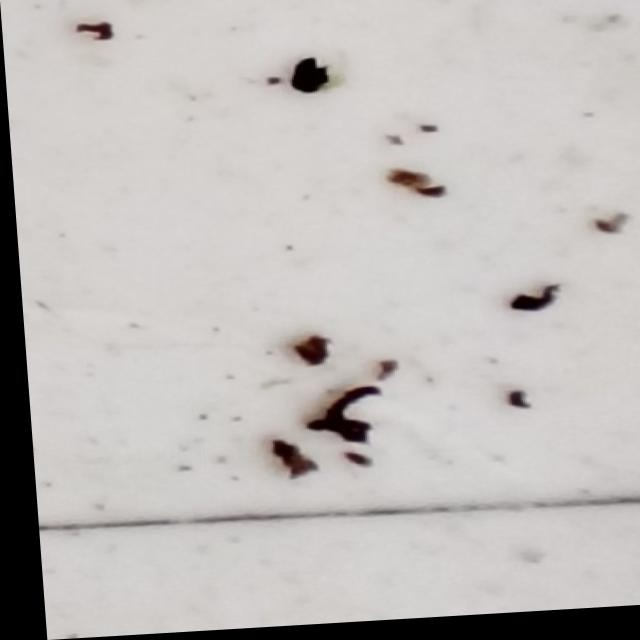varroa: (285, 59, 336, 102)
